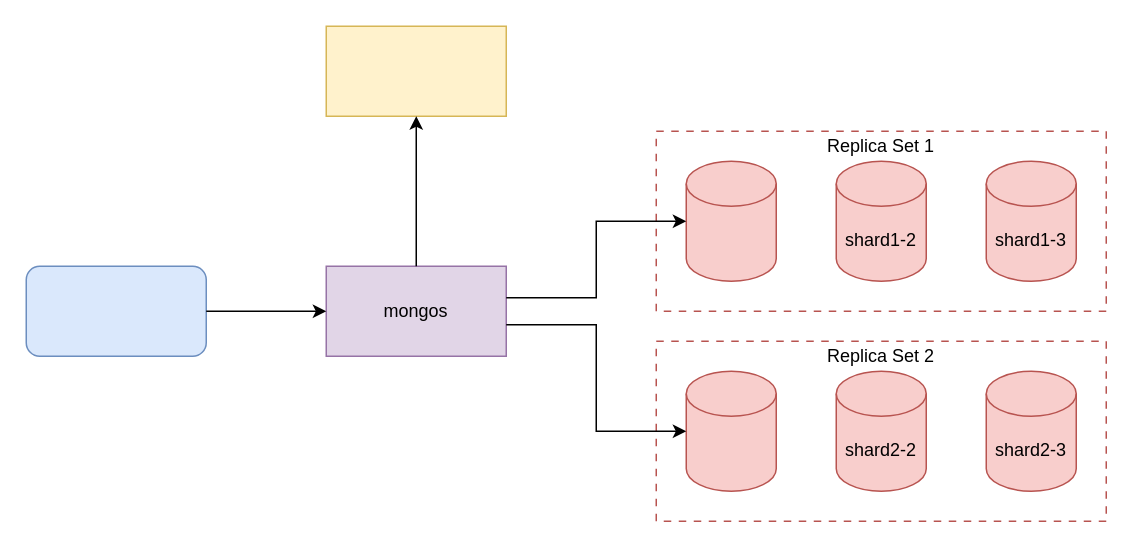
Image size: 1133x548. Some labels were removed from this diagram. Each missing label, with the centre of its shape:
configSrv: the point at 415,70
pymongo-api: the point at 115,310
shard1-1: the point at 730,220
shard2-1: the point at 730,430
